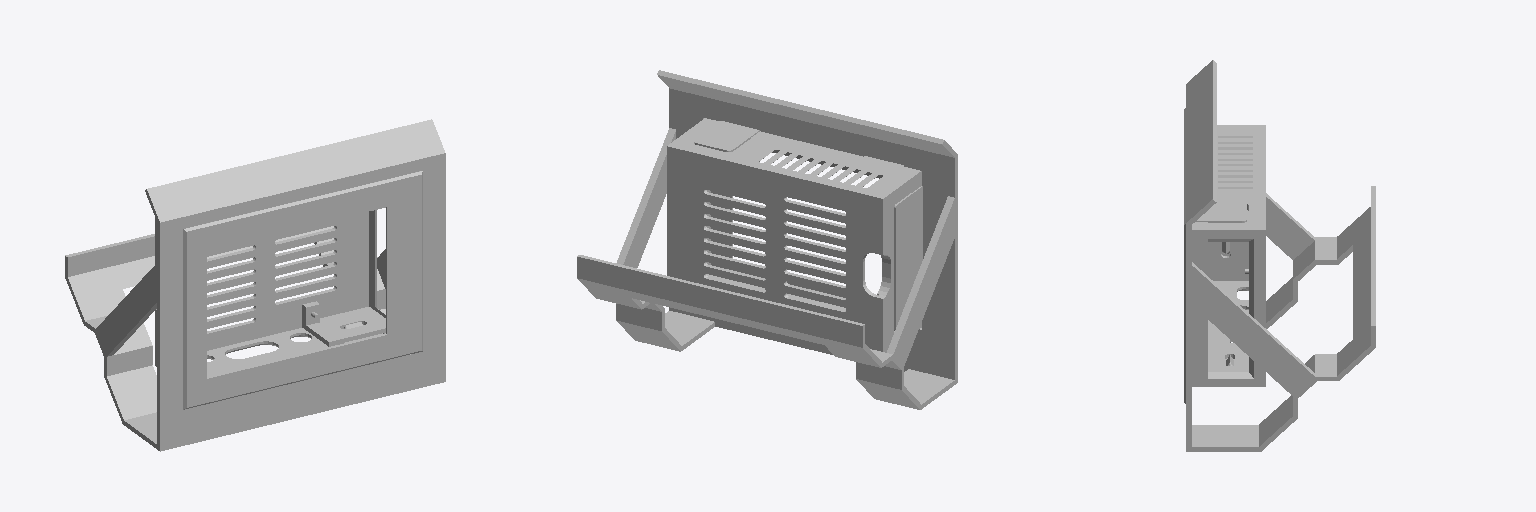
Rendered from case_base_lid_stand.obj.
The picture shows the model from 3 angles: view 1: azimuth 30°, elevation 25°; view 2: azimuth 150°, elevation 25°; view 3: azimuth 270°, elevation 25°; orthographic projection.
Visible parts, largest first — view 1: Body002, Body001, Body; view 2: Body002, Body, Body001; view 3: Body002, Body, Body001.
Part boxes in pixels (bbox=[...]): Body002: bbox=[65, 119, 445, 451]; Body001: bbox=[183, 171, 422, 409]; Body: bbox=[155, 210, 385, 376]; Body002: bbox=[577, 70, 957, 409]; Body: bbox=[667, 125, 911, 352]; Body001: bbox=[695, 118, 922, 330]; Body002: bbox=[1186, 60, 1375, 451]; Body: bbox=[1208, 125, 1265, 386]; Body001: bbox=[1184, 108, 1246, 403].
Size of the model in its own units: 124 by 105 by 72.5.